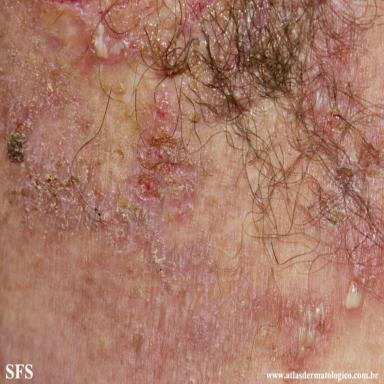Hailey-Hailey-Disease: (0, 1, 383, 384)
